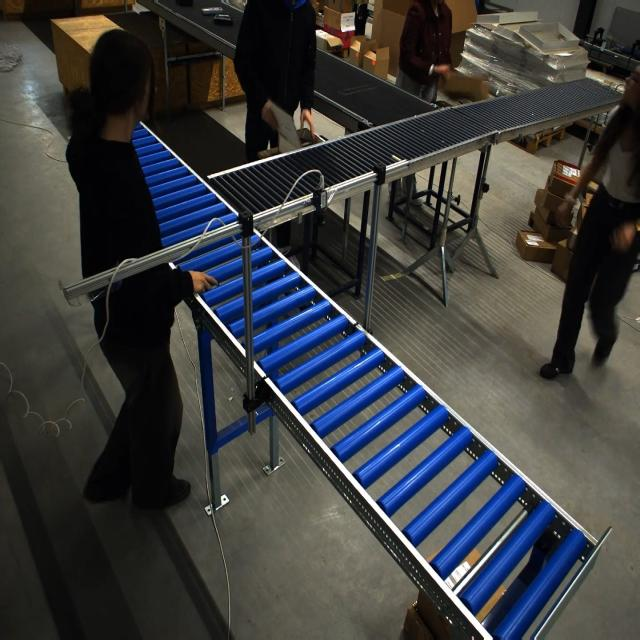product: (213, 13, 233, 24), (200, 7, 224, 15)
